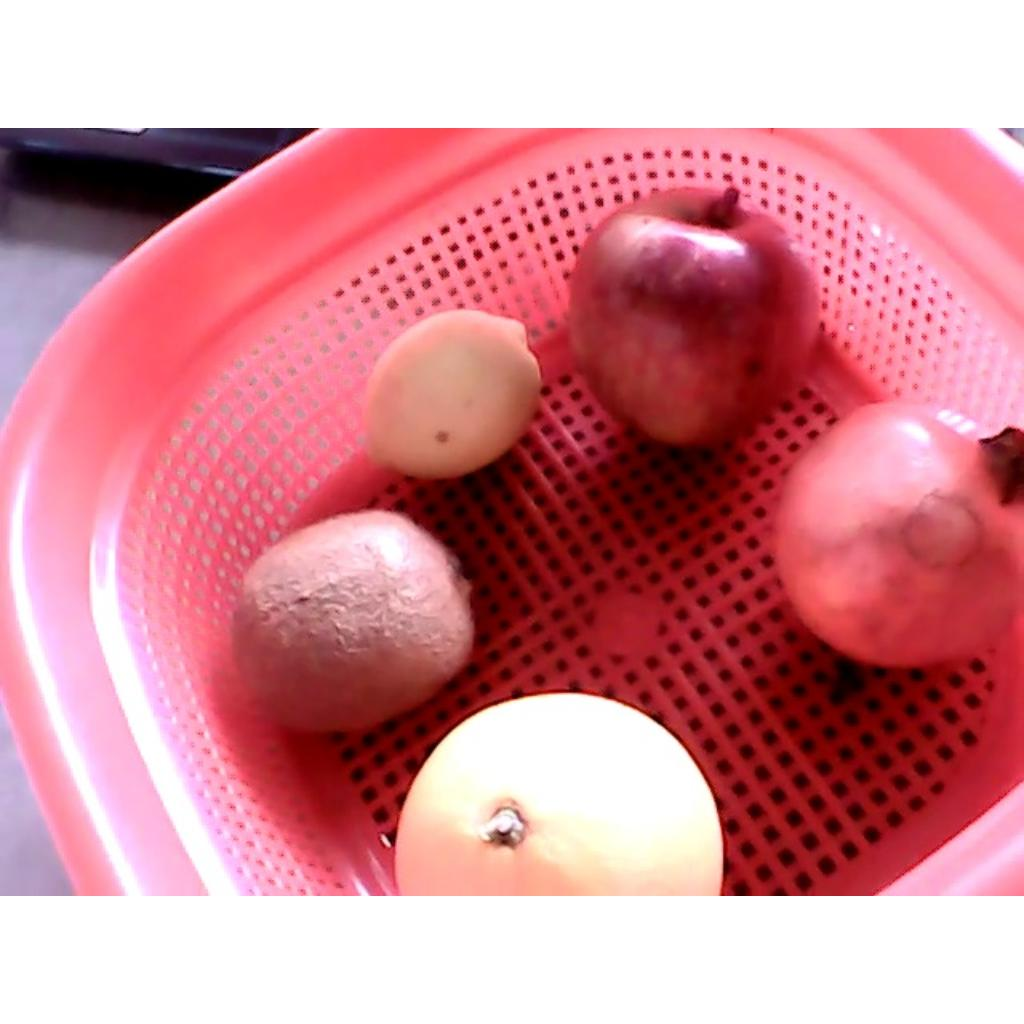apple: (565, 185, 823, 449)
kiwi: (231, 511, 472, 736)
lemon: (363, 309, 541, 478)
orange: (396, 693, 724, 894)
pomegranate: (772, 401, 1022, 667)
